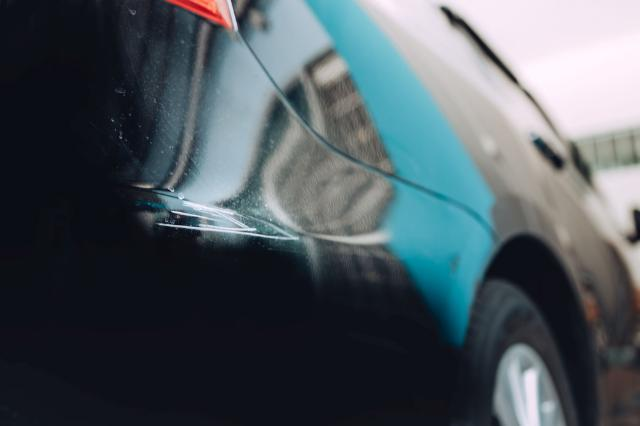scratch: (149, 197, 308, 247)
